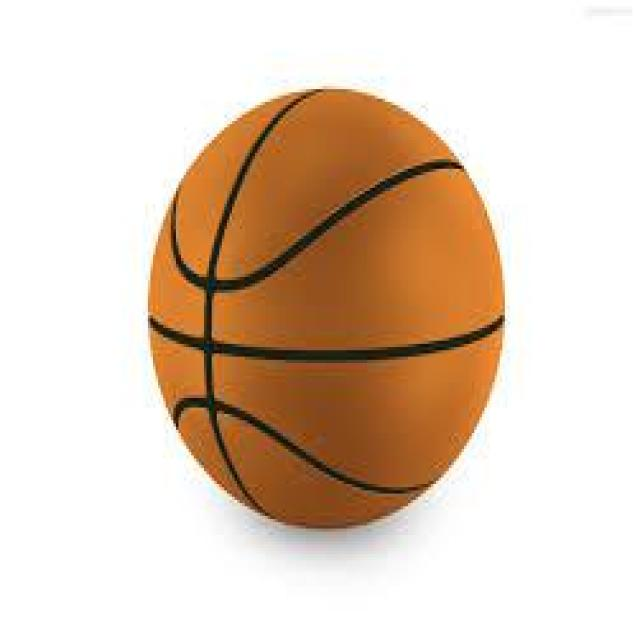ball: (144, 84, 509, 536)
